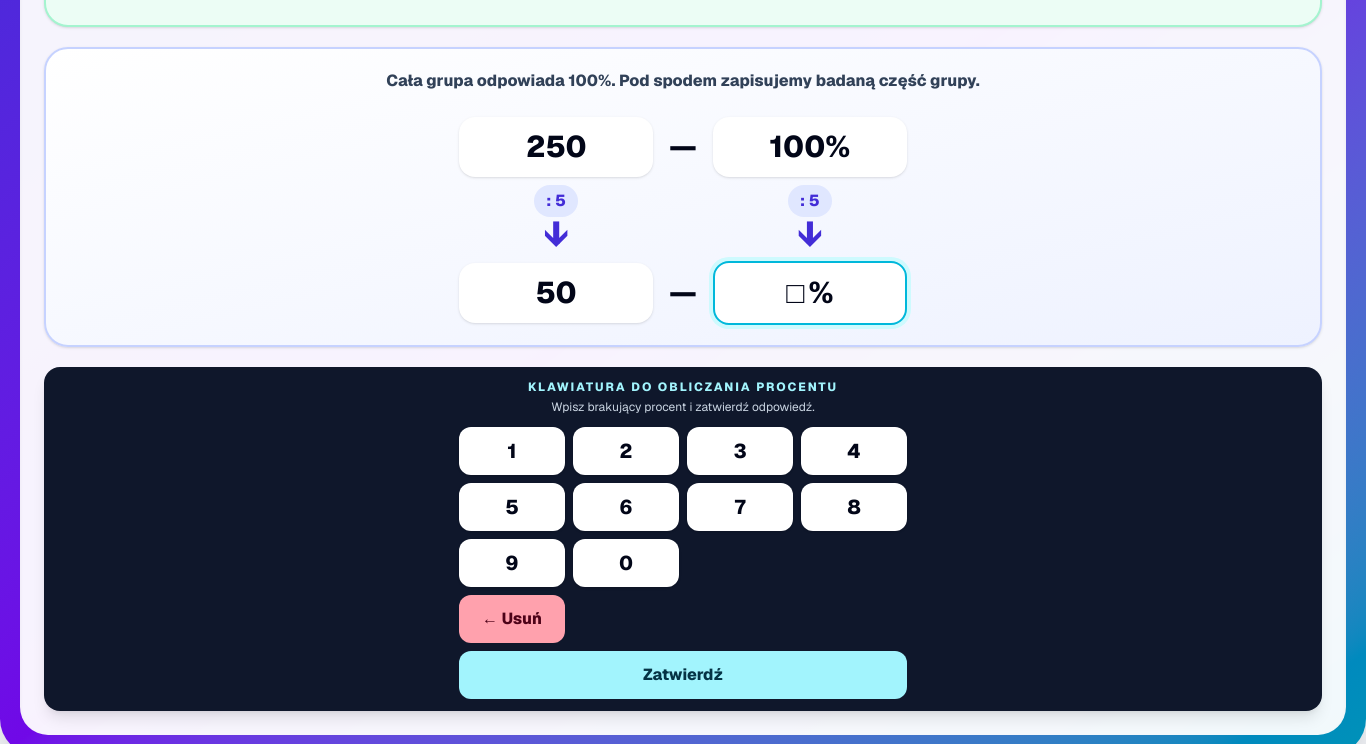
Scenario: Jaki to procent? metodą proporcji › blokuje puste zadanie i przyjmuje poprawny procent z klawiatury
(page scrolled)
Click the button "Zatwierdź". click: x=683, y=674
box: [459,650,907,698]
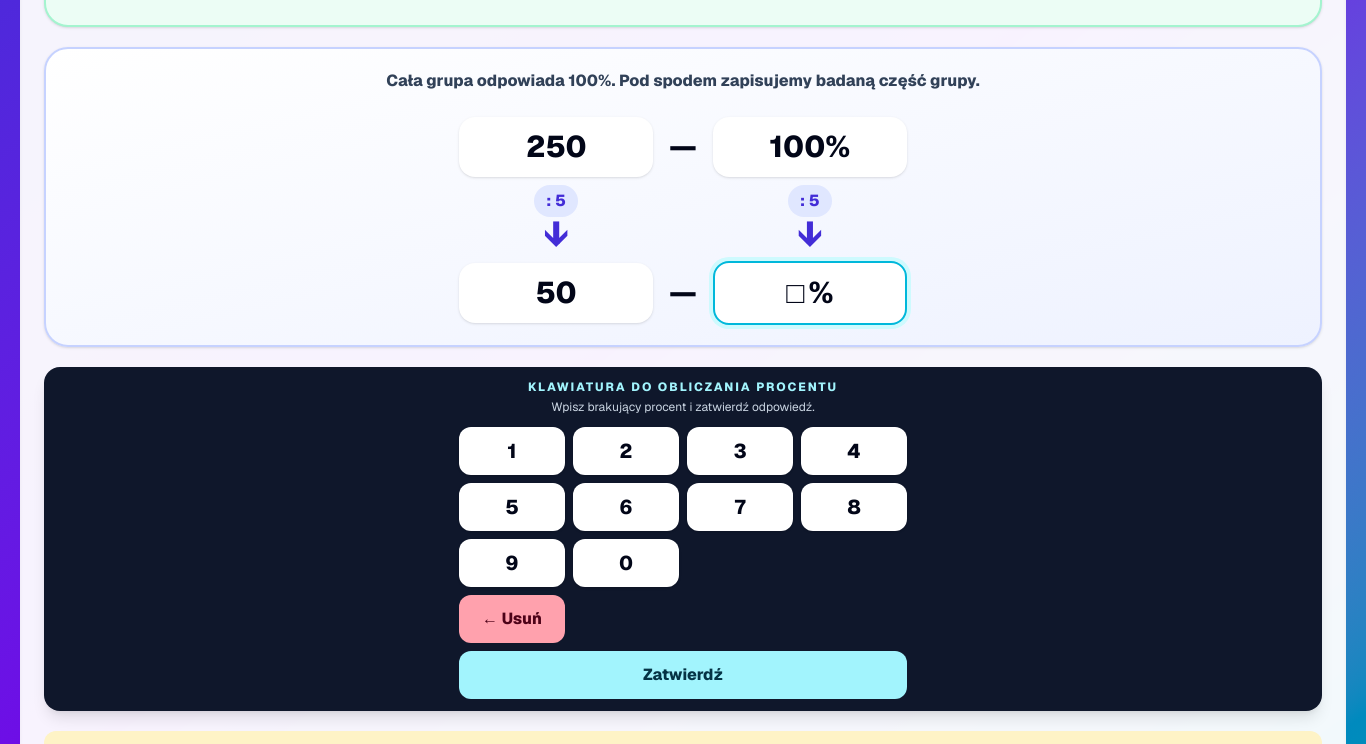
Click the button "2". click: x=626, y=450
box: [573,426,679,474]
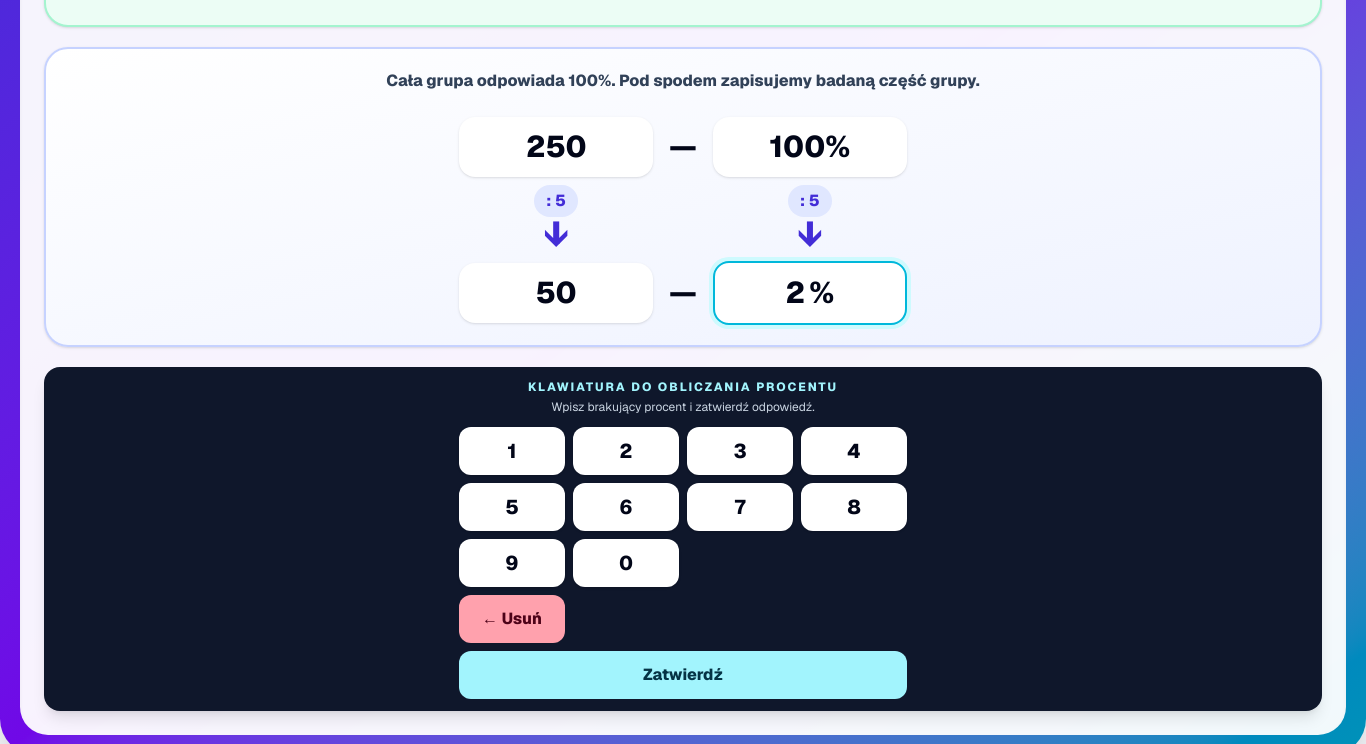
Click the button "0". click: x=626, y=562
box: [573,538,679,586]
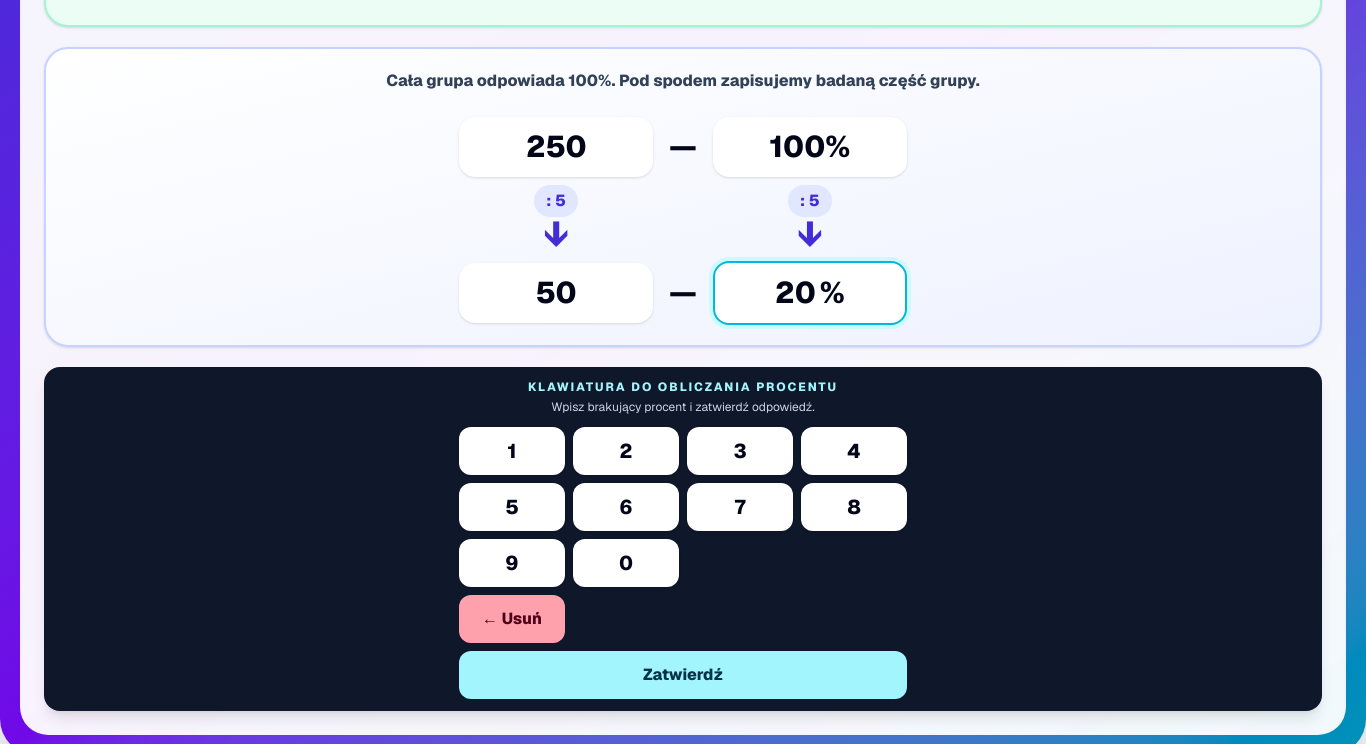
Click the button "Zatwierdź". click: x=683, y=674
box: [459,650,907,698]
(page scrolled)
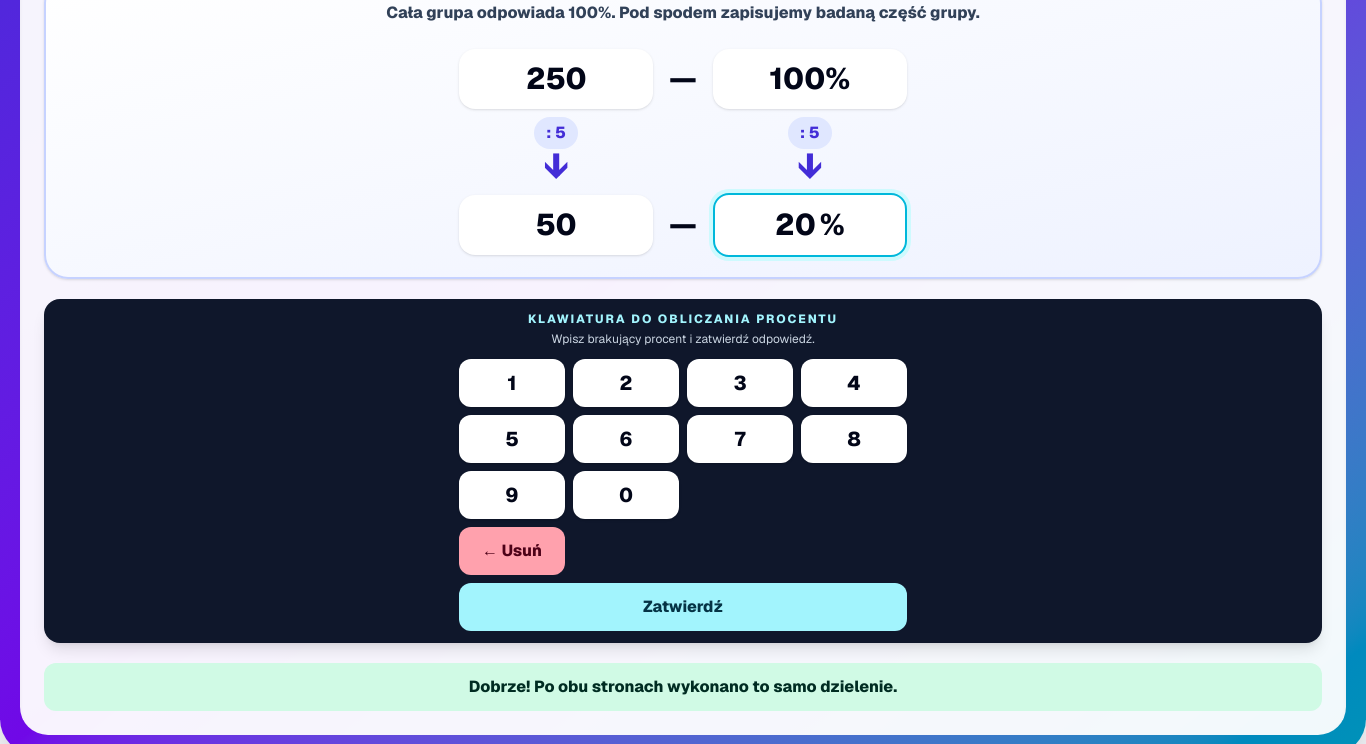
Expected: the text "Dobrze! Po obu stronach wykonano to samo dzielenie." is shown, [44,662,1322,710]
